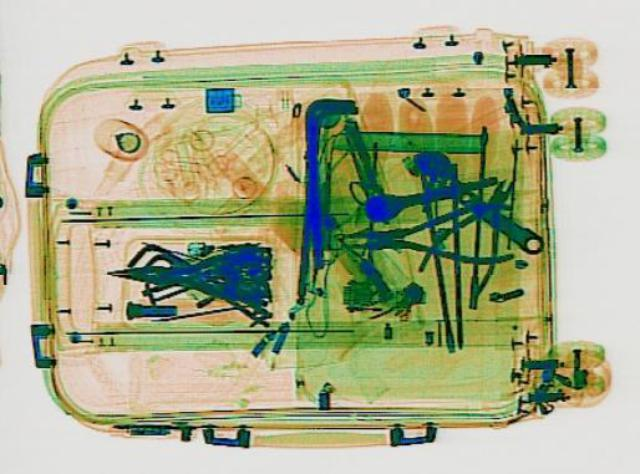Pliers: (342, 201, 514, 265), (104, 246, 268, 297)
